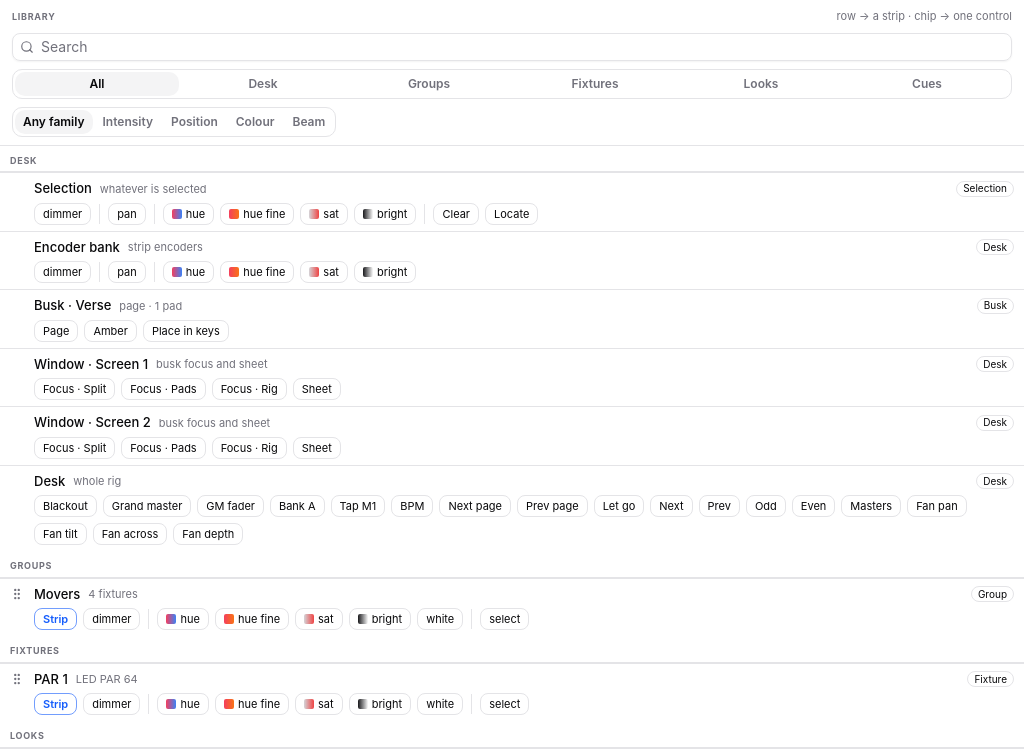
Scenario: SurfaceLibrary › scopes a palette row to the family it holds
Click the button "Position": coordinates (194, 122) [163,110,226,134]
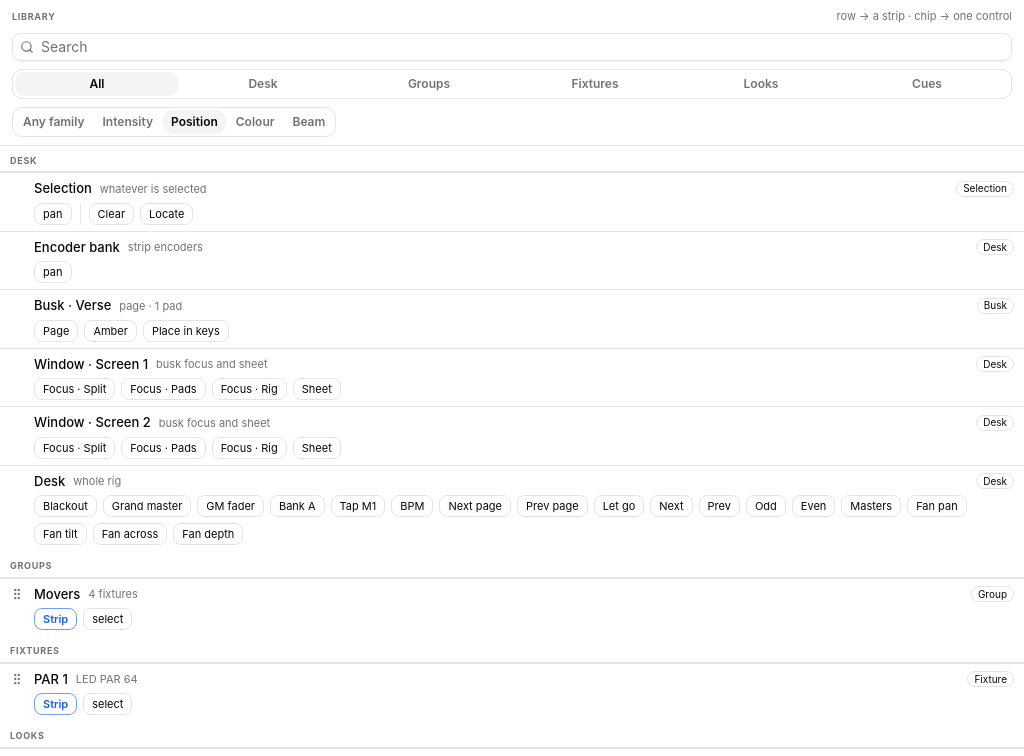
Click the button "Colour": coordinates (255, 122) [228,110,282,134]
(page scrolled)
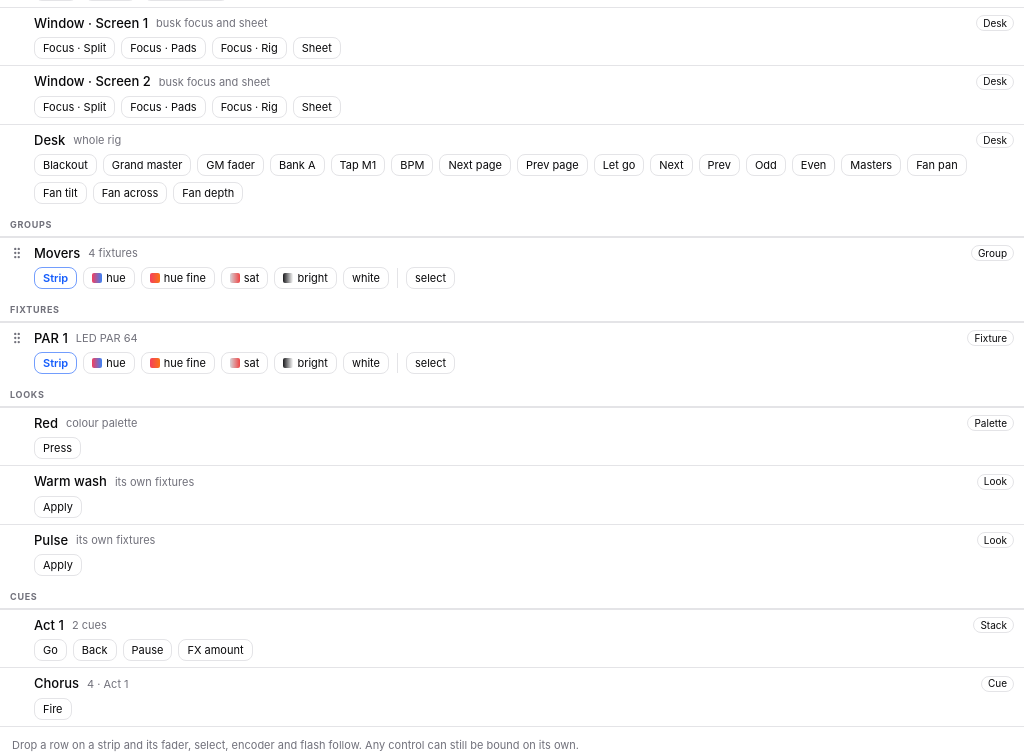
expect the element with test id "library-row:palette:tmpl-red" is shown: met, box [0,406,1023,465]
